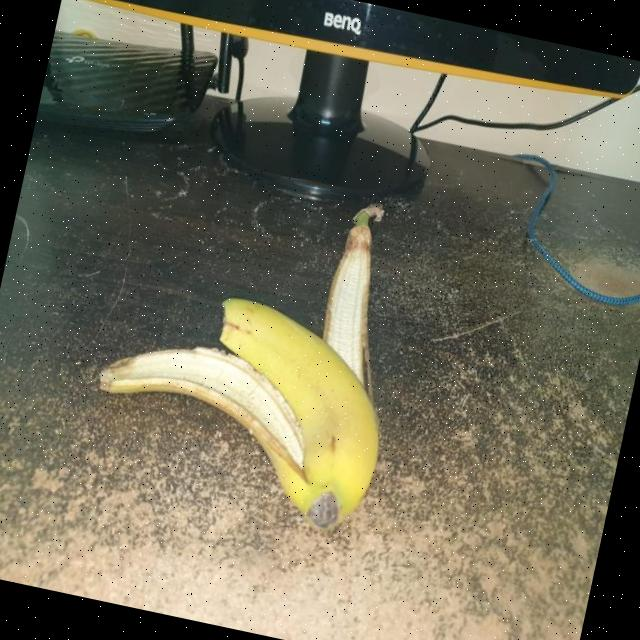banana-peel: (75, 269, 404, 537)
